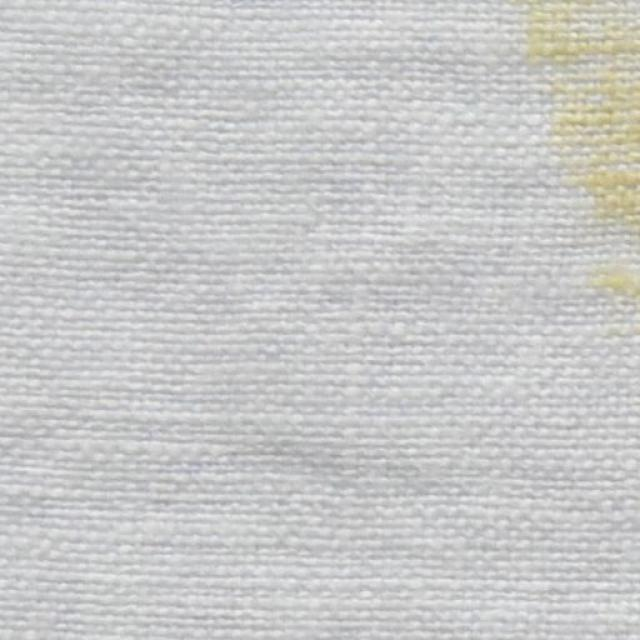Stain: (516, 0, 640, 309)
